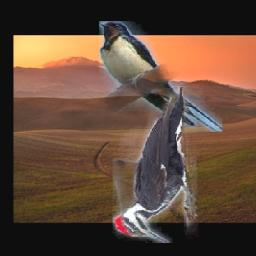Swallow: (99, 22, 222, 133)
Woodpecker: (114, 87, 199, 244)
